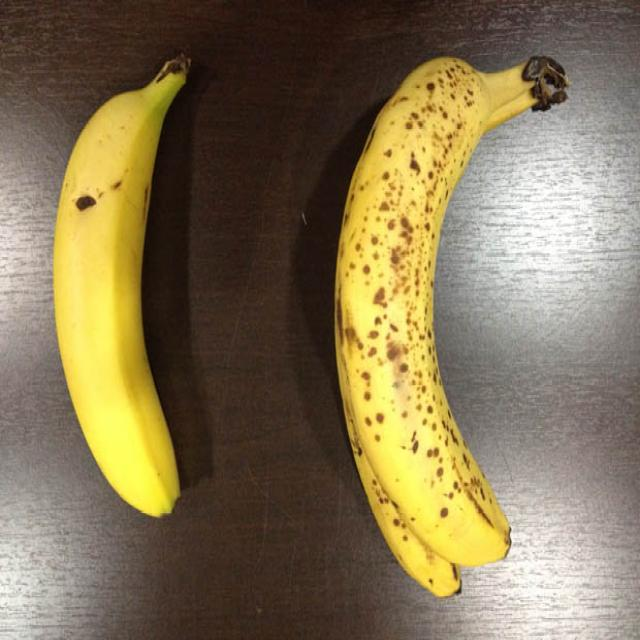Banana: (335, 50, 572, 599), (40, 54, 210, 517)
